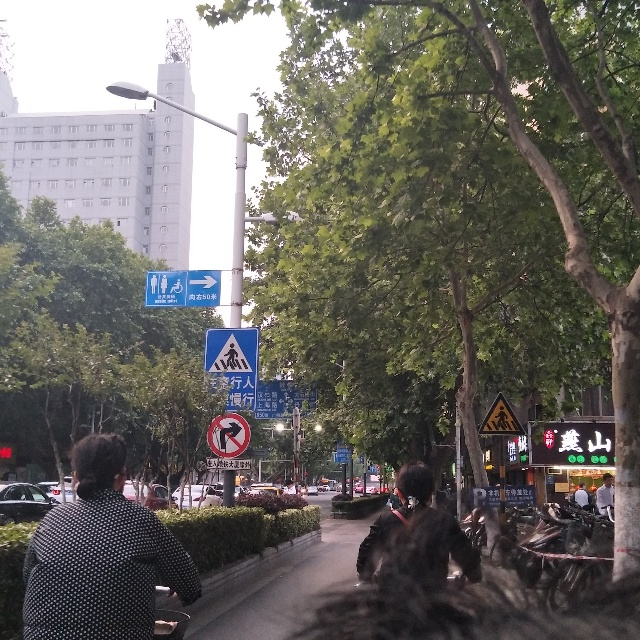crosswalk: (204, 328, 257, 411)
